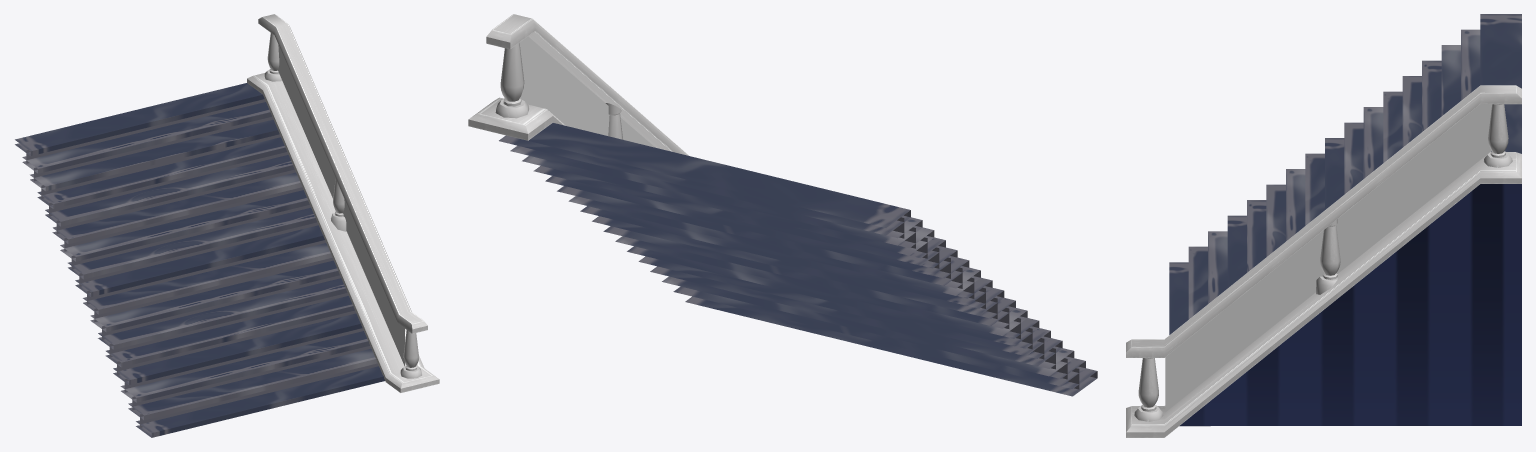
The model's file is Stairs.fbx.
The picture shows the model from 3 angles, left to right: view 1: azimuth 30°, elevation 25°; view 2: azimuth 150°, elevation 25°; view 3: azimuth 270°, elevation 25°; orthographic projection. The views are drawn at different scales.
Parts seen in each view (by area): view 1: Stars, StarsRailings; view 2: Stars, StarsRailings; view 3: Stars, StarsRailings.
Boxes of the visible parts, <box> form: Stars: <box>15,83,384,437</box>; StarsRailings: <box>247,14,439,392</box>; Stars: <box>499,123,1097,396</box>; StarsRailings: <box>468,14,688,155</box>; Stars: <box>1169,14,1521,426</box>; StarsRailings: <box>1126,85,1521,437</box>.
Bounding box in the file's own units: 431 × 398 × 424.
